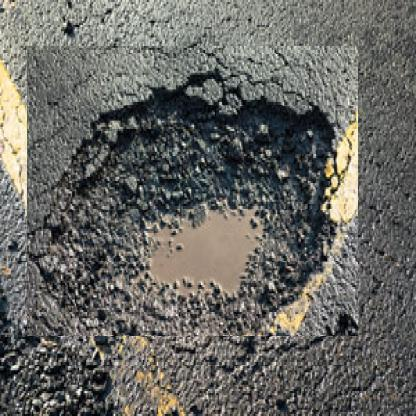pothole: (26, 46, 358, 337)
